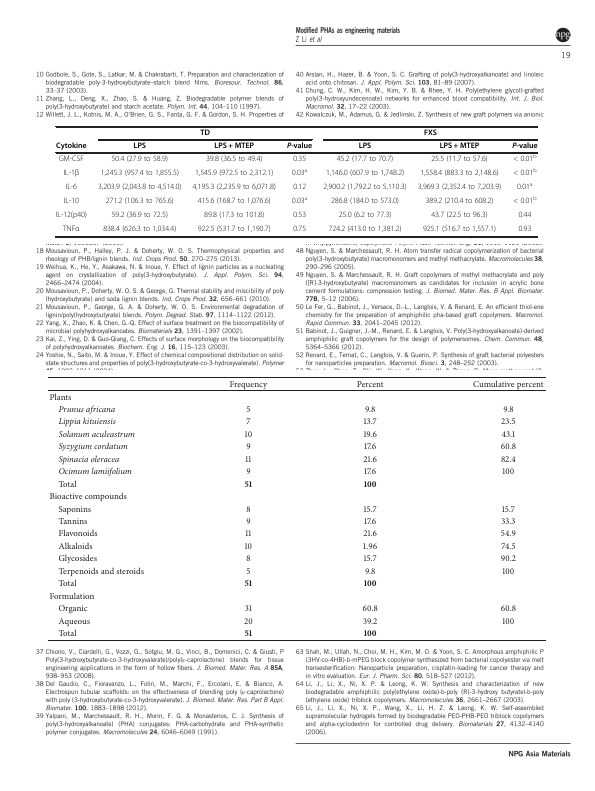borderless: (46, 375, 546, 640), (54, 125, 537, 236)
cell: (57, 566, 145, 577), (48, 491, 128, 502), (57, 429, 136, 440), (191, 183, 277, 193), (322, 183, 408, 193), (97, 183, 182, 193), (417, 183, 502, 193), (57, 466, 133, 477), (472, 379, 545, 390), (100, 169, 180, 179), (194, 169, 274, 179), (325, 169, 405, 179), (419, 169, 499, 179), (197, 197, 272, 207), (102, 225, 177, 235), (197, 225, 272, 235), (327, 225, 402, 235), (422, 225, 497, 235), (57, 442, 129, 452), (105, 197, 175, 207), (330, 197, 400, 207), (424, 197, 494, 207), (57, 454, 120, 465), (57, 404, 116, 415), (203, 211, 265, 221), (57, 417, 117, 427), (110, 155, 169, 165), (430, 155, 489, 165), (110, 211, 169, 221), (430, 211, 489, 221), (205, 155, 263, 165), (336, 155, 394, 165), (338, 211, 392, 221), (48, 591, 95, 602), (229, 379, 268, 390), (57, 529, 99, 539), (213, 142, 255, 152), (57, 554, 98, 564), (439, 142, 480, 152), (57, 541, 94, 552), (57, 616, 91, 627), (57, 603, 89, 614), (57, 504, 92, 514), (57, 516, 88, 527), (55, 211, 88, 221), (55, 142, 87, 152), (356, 379, 385, 390), (512, 154, 537, 165), (512, 168, 537, 179), (512, 196, 537, 207), (286, 142, 313, 152), (511, 142, 538, 152), (58, 155, 85, 165), (48, 392, 72, 402), (57, 479, 78, 490), (57, 628, 78, 639), (57, 579, 78, 589), (500, 454, 517, 465), (500, 541, 517, 552), (362, 603, 379, 614), (500, 603, 517, 614), (291, 168, 308, 179), (516, 182, 533, 193), (291, 196, 308, 207), (62, 169, 80, 179), (62, 225, 80, 235), (362, 429, 378, 440), (362, 454, 378, 465), (500, 516, 516, 527), (362, 541, 378, 552), (362, 616, 378, 627), (500, 417, 517, 427), (500, 442, 517, 452), (500, 529, 517, 539), (500, 554, 517, 564), (63, 197, 80, 207), (501, 429, 516, 440), (362, 529, 378, 539), (363, 466, 377, 477), (501, 466, 515, 477), (363, 516, 377, 527), (501, 566, 515, 577), (501, 616, 515, 627), (363, 417, 378, 427), (363, 504, 378, 514), (501, 504, 516, 514), (363, 554, 378, 564), (132, 142, 147, 152), (292, 155, 307, 165), (292, 183, 307, 193), (292, 211, 307, 221), (517, 211, 532, 221), (292, 225, 307, 235), (517, 225, 532, 235), (502, 404, 515, 415), (363, 442, 377, 452), (358, 142, 372, 152), (64, 183, 78, 193), (363, 628, 378, 637), (423, 129, 438, 138), (364, 404, 376, 415), (364, 566, 376, 577), (243, 616, 254, 627), (363, 479, 378, 487), (363, 579, 378, 587), (199, 129, 211, 138), (244, 429, 253, 440), (244, 541, 253, 552), (244, 603, 253, 614), (244, 454, 252, 465), (244, 628, 253, 637), (244, 529, 252, 539), (245, 466, 252, 477), (245, 516, 252, 527), (244, 479, 253, 487), (244, 579, 253, 587), (245, 442, 252, 452), (245, 504, 252, 514), (245, 554, 252, 564), (245, 404, 251, 415), (245, 566, 251, 577), (245, 417, 251, 427)
